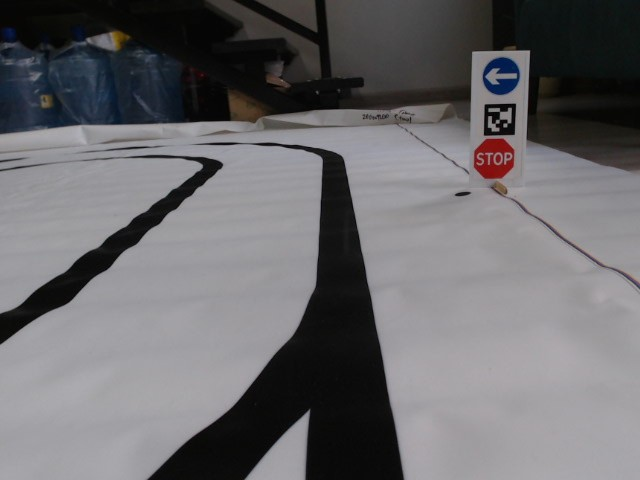Stop: (473, 137, 516, 180)
